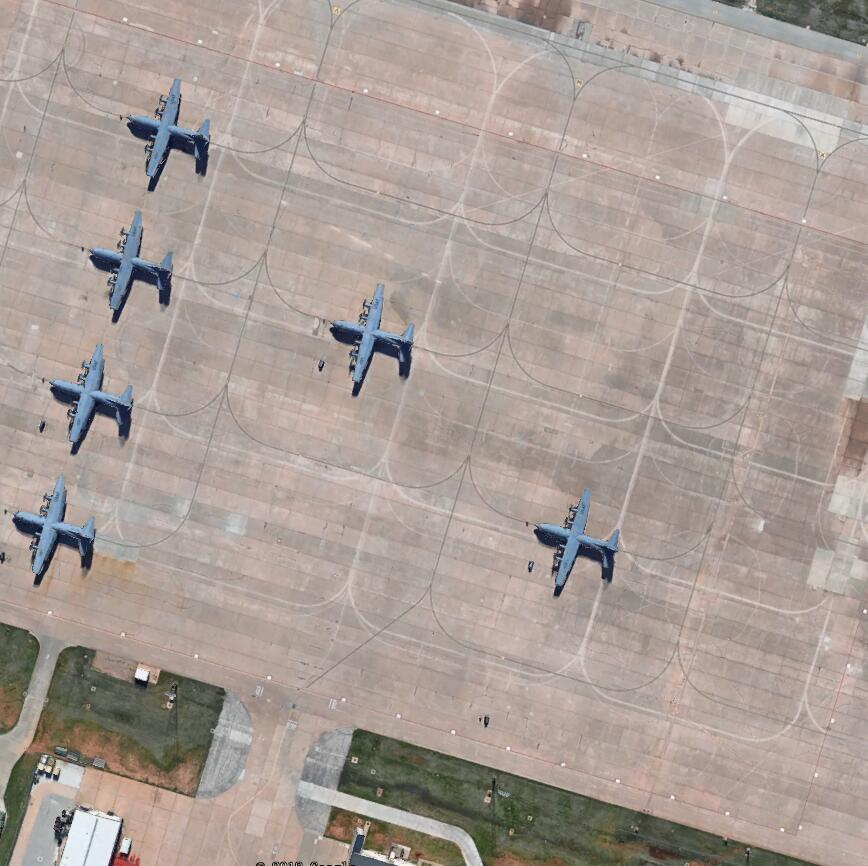A2: (76, 210, 182, 319), (323, 280, 418, 396), (530, 483, 628, 595), (118, 76, 217, 185), (45, 340, 143, 450), (7, 475, 102, 584)
